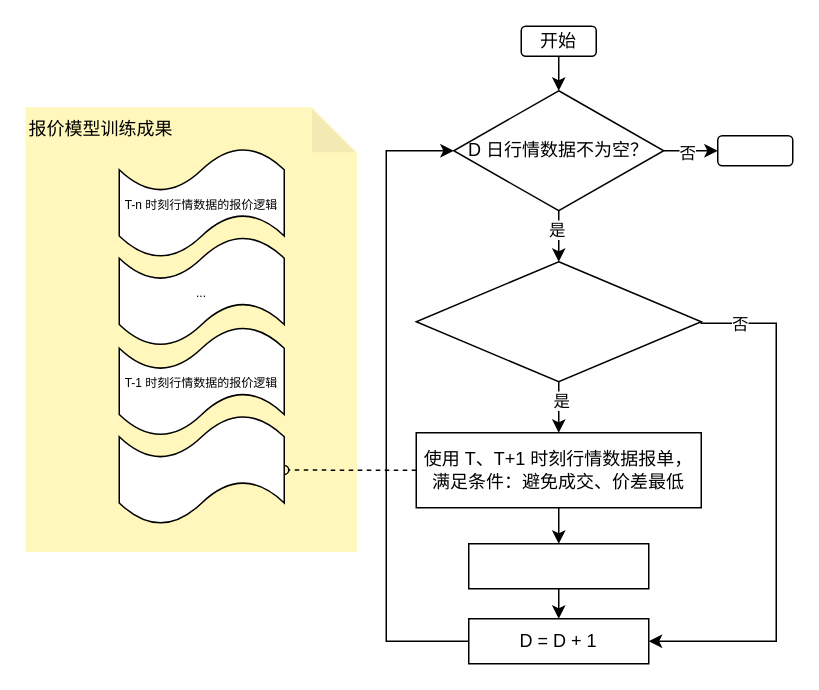
The diagram is 819 pixels wide and 690 high, and some of its shapes have lost their labels. The box of each missing label's shape, as (x1, y1, x2, y2) in pixels:
T = T + 1: (467, 542, 649, 589)
T 时刻行情数据的报价逻辑: (118, 413, 284, 525)
T、T+1 时刻行情数据不为空？: (415, 260, 701, 382)
结束: (716, 134, 793, 166)
